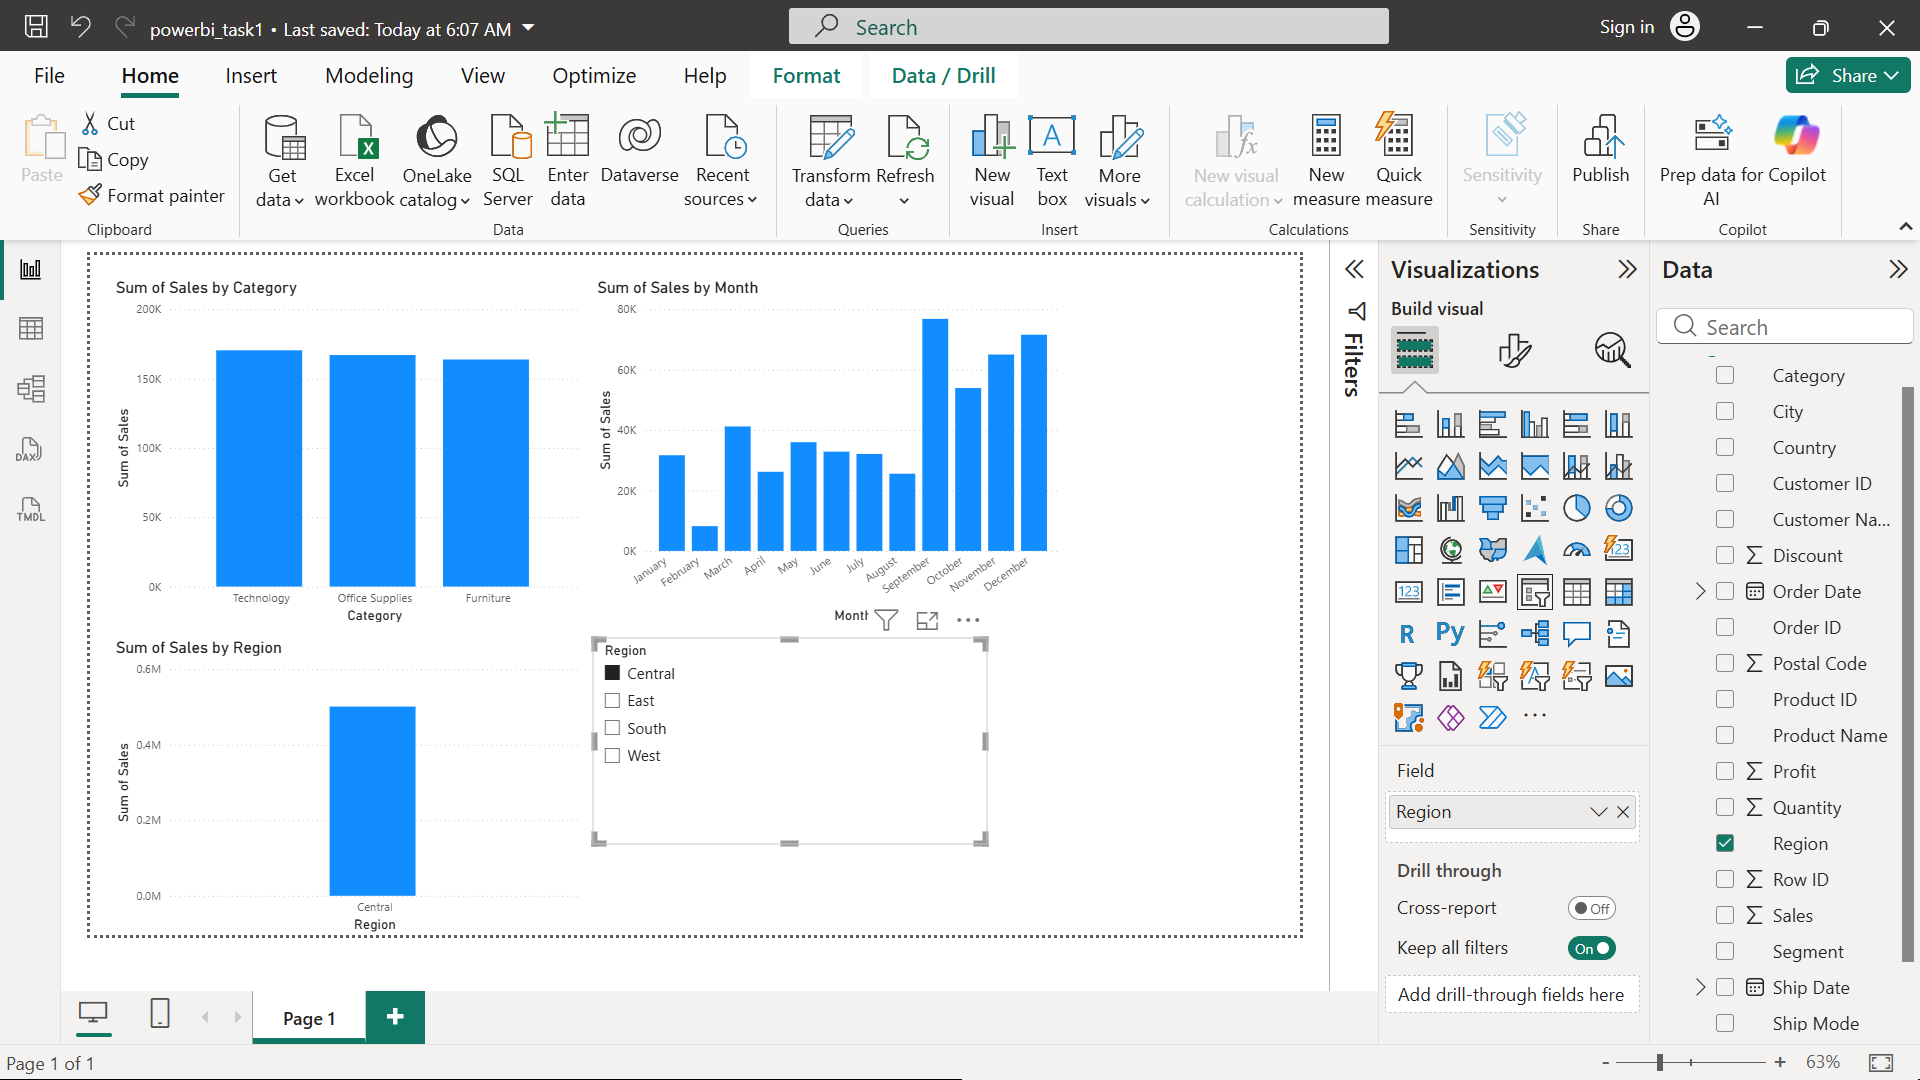

What the dashboard file says about the page in this screenshot:
{"tool":"powerbi","page":{"name":"Page 1","canvas":[1280,720],"ordinal":0},"visuals":[{"type":"clusteredColumnChart","fields":{"Y":["Sum(Sample - Superstore.Sales)"],"Category":["Sample - Superstore.Category"]},"box":[22.4,23.7,500,369.7],"z":0},{"type":"clusteredColumnChart","fields":{"Y":["Sum(Sample - Superstore.Sales)"],"Category":["Sample - Superstore.Region"]},"box":[22,404,500,316],"z":1000},{"type":"clusteredColumnChart","fields":{"Y":["Sum(Sample - Superstore.Sales)"],"Category":["Sample - Superstore.Order Date.Variation.Date Hierarchy.Month"]},"box":[532,24,500,370],"z":2000},{"type":"slicer","fields":{"Values":["Sample - Superstore.Region"]},"box":[531.7,404.8,417.5,219],"z":3000}]}

Visuals, with their boxes on the page's 1280x720 design canvas (x1, y1, x2, y2). These are canvas units, not pixel positions in the 1920x1080 screenshot, which may show the page scaled, cropped or inside an application window:
clusteredColumnChart - Sum(Sample - Superstore.Sales) x Sample - Superstore.Category: crop(22, 24, 522, 393)
clusteredColumnChart - Sum(Sample - Superstore.Sales) x Sample - Superstore.Region: crop(22, 404, 522, 720)
clusteredColumnChart - Sum(Sample - Superstore.Sales) x Sample - Superstore.Order Date.Variation.Date Hierarchy.Month: crop(532, 24, 1032, 394)
slicer - Sample - Superstore.Region: crop(532, 405, 949, 624)
